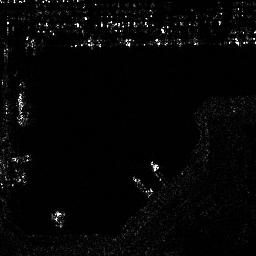ship: (149, 160, 168, 184), (132, 176, 152, 196)
